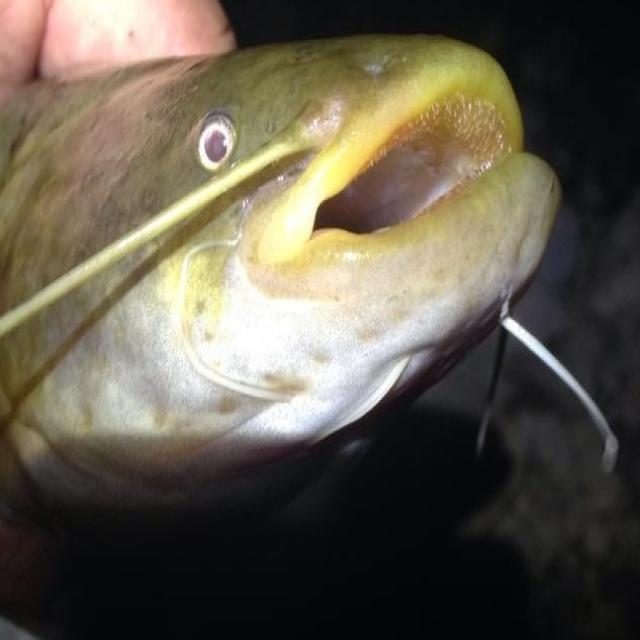Catfish: (4, 36, 598, 544)
